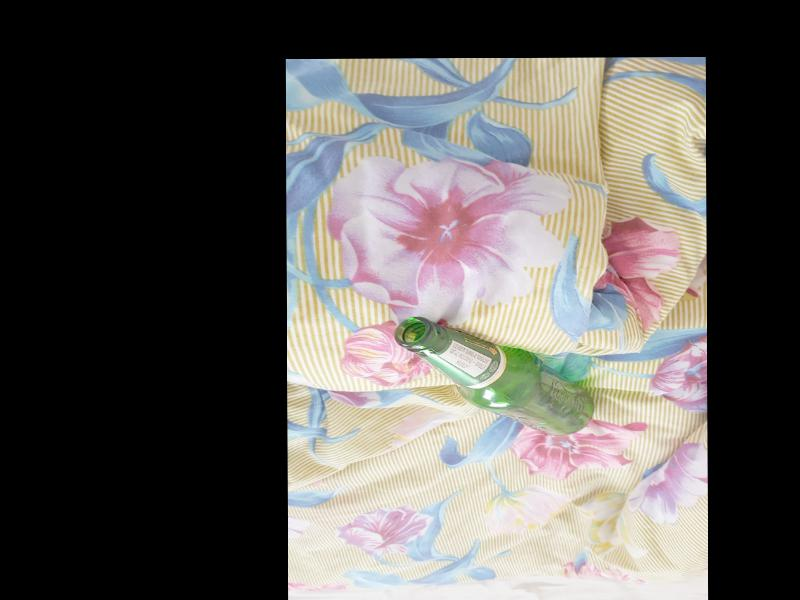Beer: (395, 314, 591, 435)
